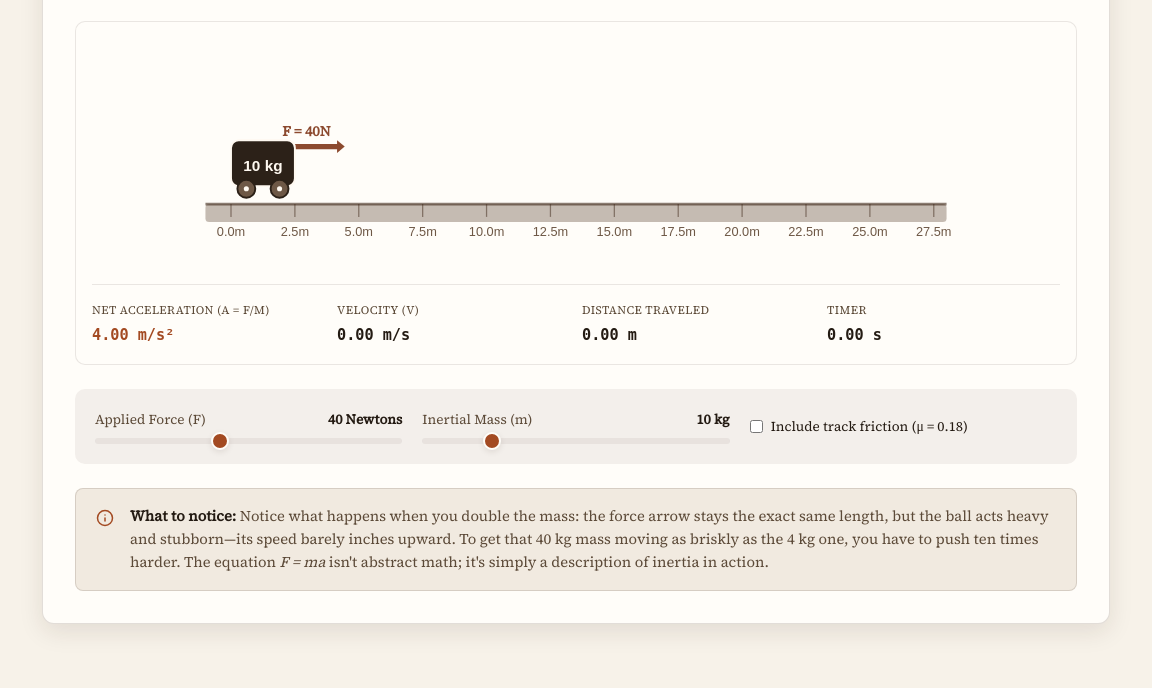
Physics simulations › doubling the mass at the same force halves the acceleration
The image size is (1152, 688).
(page scrolled)
Set the slider named "inertial mass" to "2" at [430, 441], box [422,438,730,444]
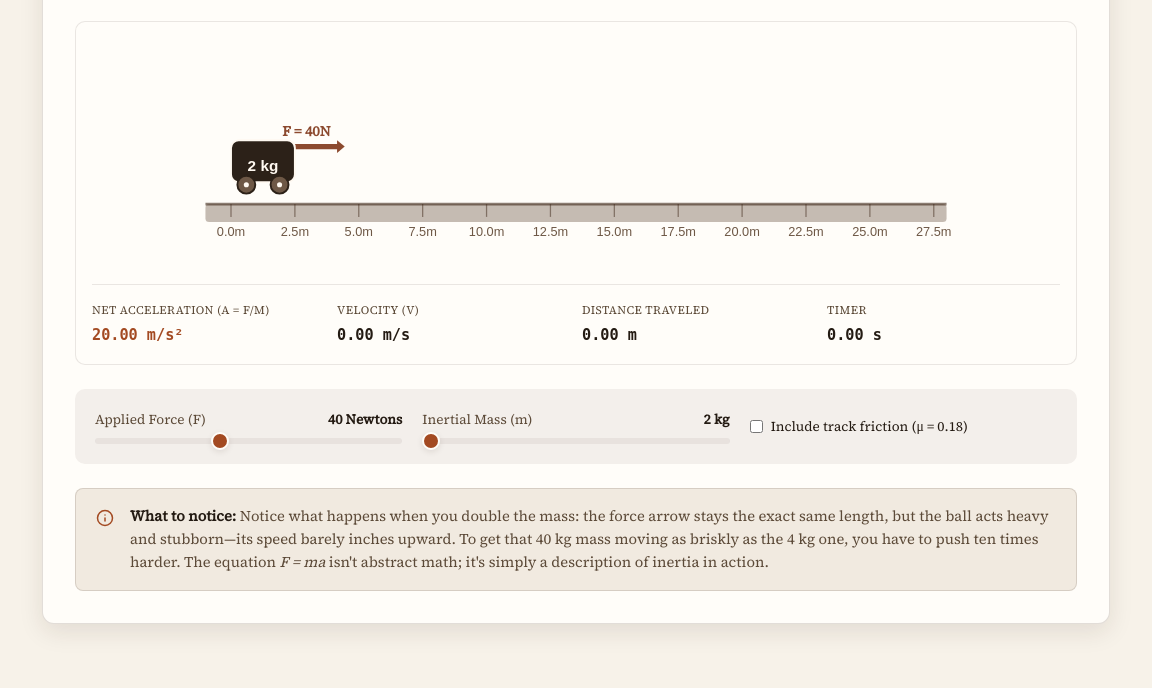
Set the slider named "applied force" to "10" at [132, 441], box [95,438,402,444]
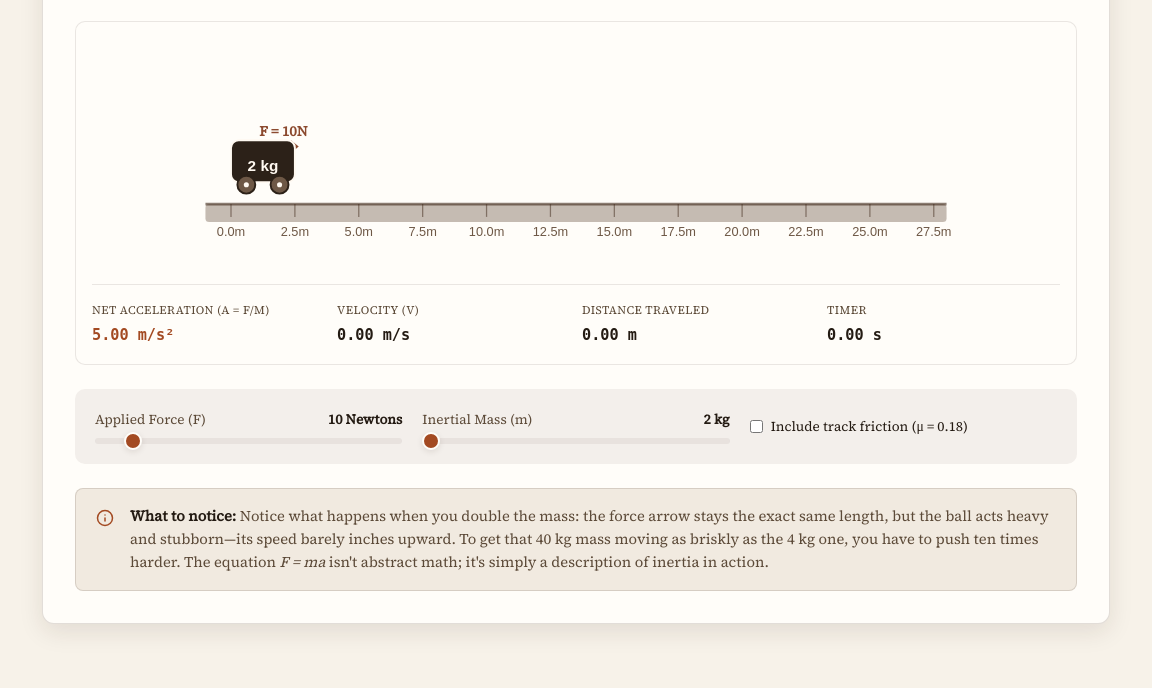
Now the text "5.00 m/s²" is shown, box [92,326,174,344]
Set the slider named "inertial mass" to "4" at [446, 441], box [422,438,730,444]
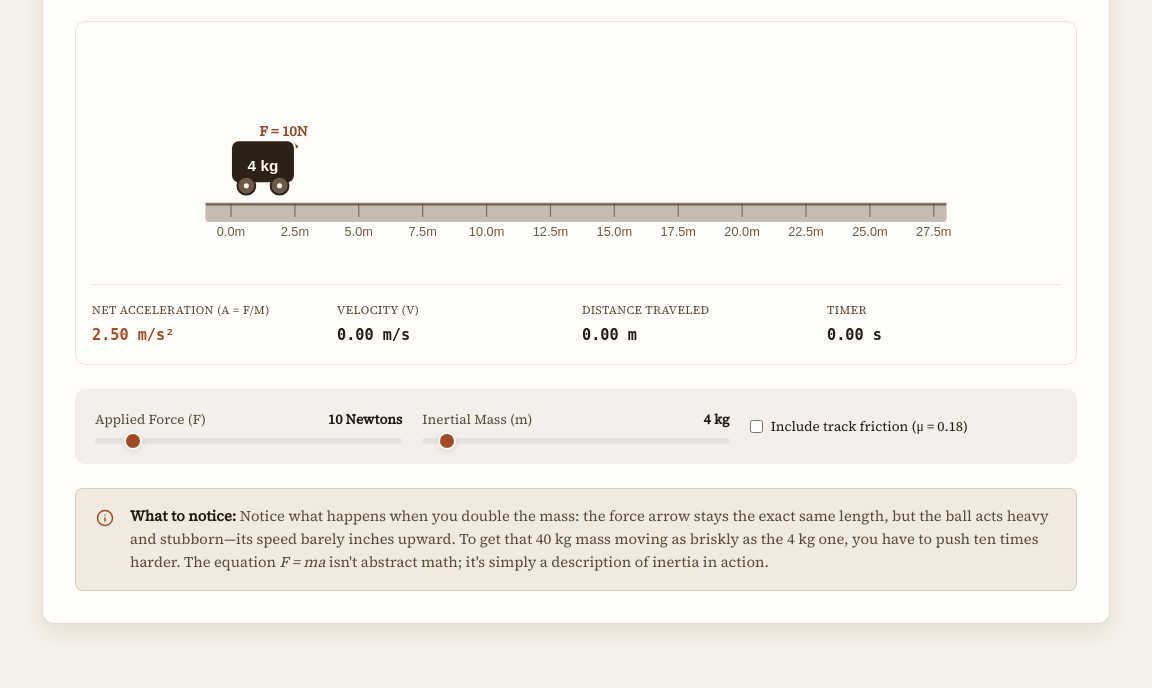
Now the text "2.50 m/s²" is shown, box [92,326,174,344]
